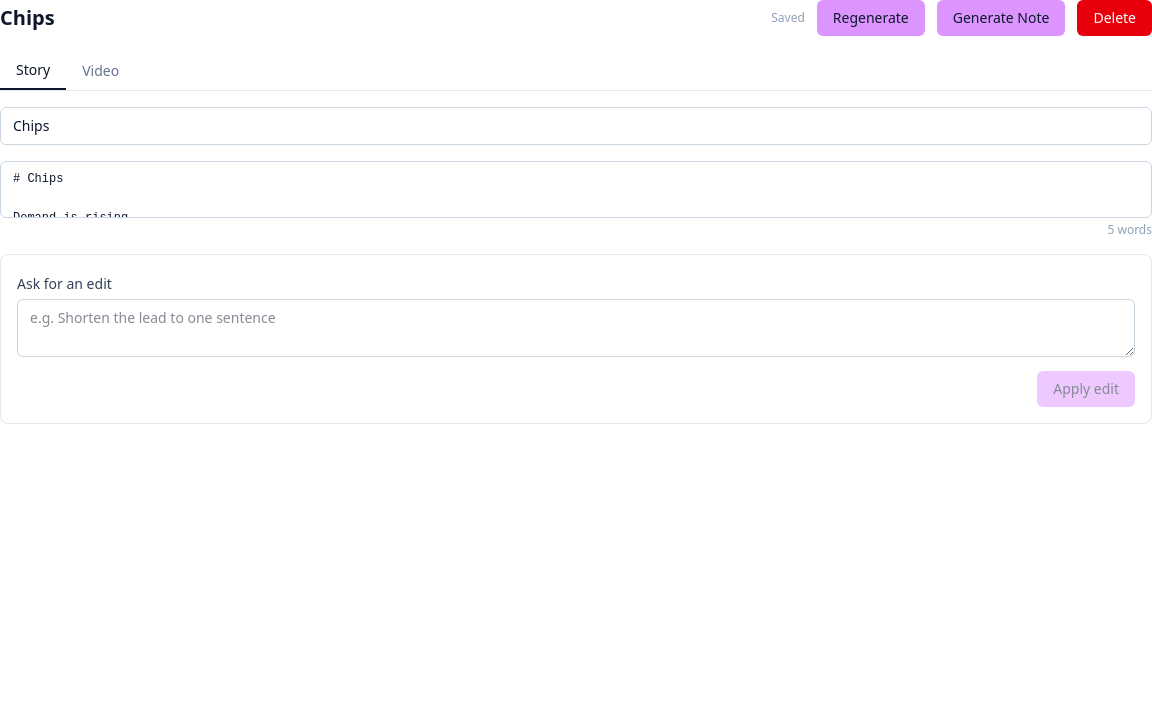
Test: StoryEditor › closes the regenerate modal when cancelled
The image size is (1152, 720).
What coordinates should you click on to do the following:
click the button "Regenerate"
I would click on:
 (871, 18)
Its box is [817,0,925,36].
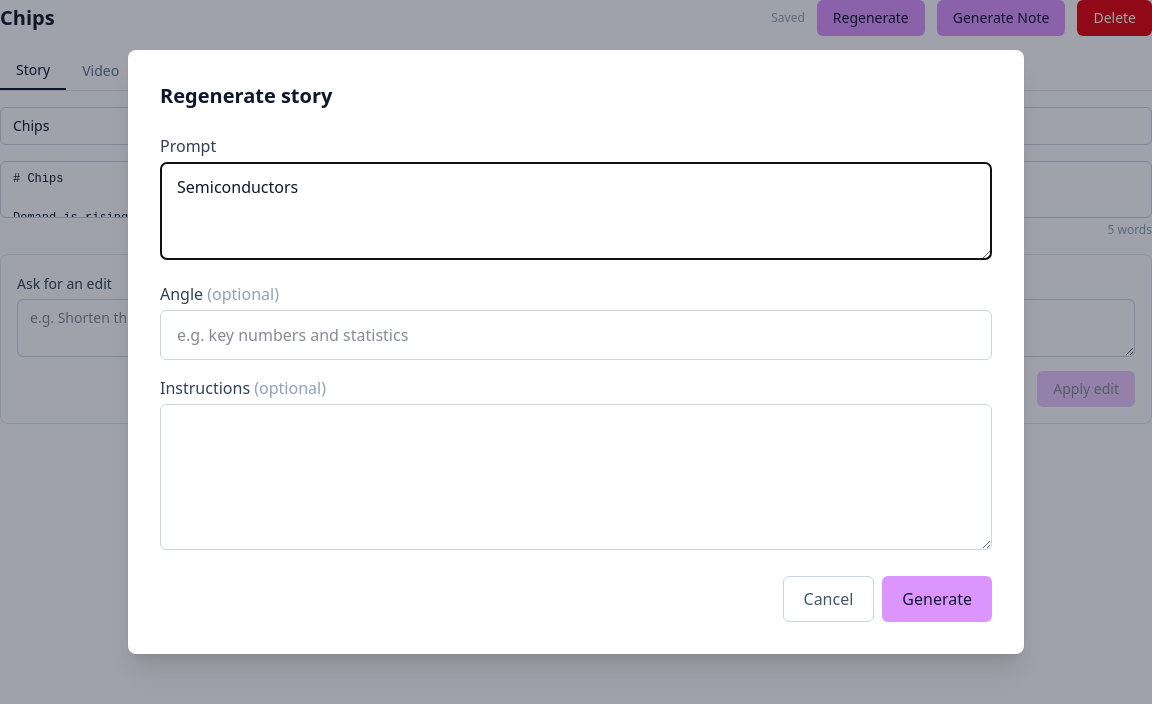
Expected: the heading "Regenerate story" is shown, [160,82,332,109]
What coordinates should you click on to do the following:
click the button "Cancel"
I would click on:
 (828, 599)
Its box is [782,576,874,622].
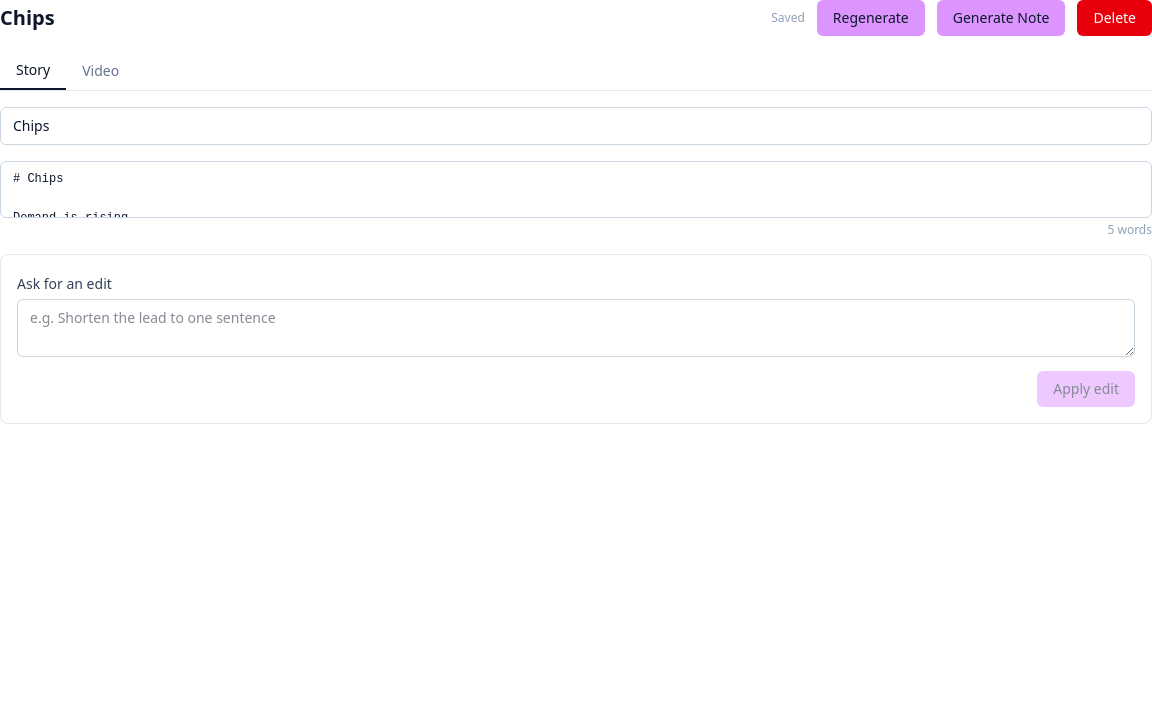
Expected: the heading "Regenerate story" is gone
